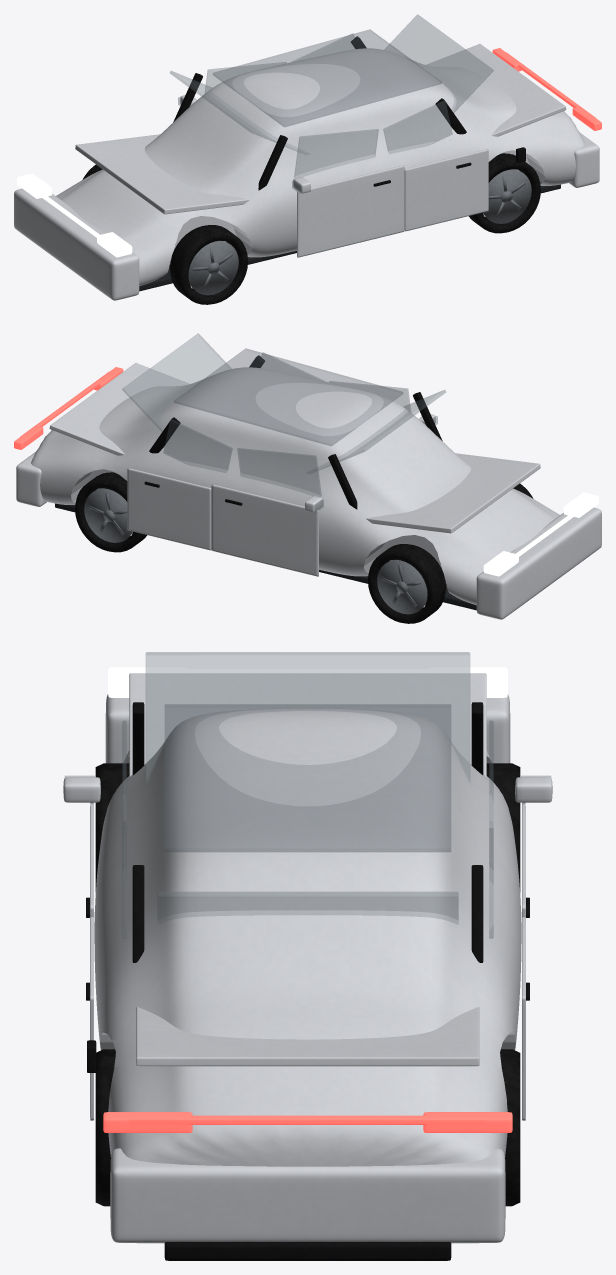
File: pack.agentspace.vehicle.car.tesla.sedan.01.glb
3 views of the same model, one above another, from view 1: azimuth 30°, elevation 25°; view 2: azimuth 150°, elevation 25°; view 3: azimuth 270°, elevation 25° (orthographic). The views are drawn at different scales.
Parts seen in each view (by area): view 1: pack.agentspace.vehicle.car.tesla.sedan.01.body, pack.agentspace.vehicle.car.tesla.sedan.01.roof, pack.agentspace.vehicle.car.tesla.sedan.01.door.front.left, pack.agentspace.vehicle.car.tesla.sedan.01.bumper.front, pack.agentspace.vehicle.car.tesla.sedan.01.door.rear.left, pack.agentspace.vehicle.car.tesla.sedan.01.hood, pack.agentspace.vehicle.car.tesla.sedan.01.glass.rear, pack.agentspace.vehicle.car.tesla.sedan.01.trunk, pack.agentspace.vehicle.car.tesla.sedan.01.glass.side.front. (×2), pack.agentspace.vehicle.car.tesla.sedan.01.tyre.front.left, pack.agentspace.vehicle.car.tesla.sedan.01.glass.side.rear.l, pack.agentspace.vehicle.car.tesla.sedan.01.rim.front.left (+12 smaller); view 2: pack.agentspace.vehicle.car.tesla.sedan.01.body, pack.agentspace.vehicle.car.tesla.sedan.01.roof, pack.agentspace.vehicle.car.tesla.sedan.01.door.front.right, pack.agentspace.vehicle.car.tesla.sedan.01.bumper.front, pack.agentspace.vehicle.car.tesla.sedan.01.door.rear.right, pack.agentspace.vehicle.car.tesla.sedan.01.hood, pack.agentspace.vehicle.car.tesla.sedan.01.glass.rear, pack.agentspace.vehicle.car.tesla.sedan.01.trunk, pack.agentspace.vehicle.car.tesla.sedan.01.glass.side.front. (×2), pack.agentspace.vehicle.car.tesla.sedan.01.tyre.front.right, pack.agentspace.vehicle.car.tesla.sedan.01.glass.side.rear.r, pack.agentspace.vehicle.car.tesla.sedan.01.rim.front.right (+12 smaller); view 3: pack.agentspace.vehicle.car.tesla.sedan.01.body, pack.agentspace.vehicle.car.tesla.sedan.01.roof, pack.agentspace.vehicle.car.tesla.sedan.01.bumper.rear, pack.agentspace.vehicle.car.tesla.sedan.01.windshield, pack.agentspace.vehicle.car.tesla.sedan.01.hood, pack.agentspace.vehicle.car.tesla.sedan.01.trunk, pack.agentspace.vehicle.car.tesla.sedan.01.glass.rear, pack.agentspace.vehicle.car.tesla.sedan.01.diffuser, pack.agentspace.vehicle.car.tesla.sedan.01.bumper.front, pack.agentspace.vehicle.car.tesla.sedan.01.taillight.bar, pack.agentspace.vehicle.car.tesla.sedan.01.tyre.rear.right, pack.agentspace.vehicle.car.tesla.sedan.01.tyre.rear.left (+14 smaller).
Boxes of the visible parts, bbox=[...] form: pack.agentspace.vehicle.car.tesla.sedan.01.body: bbox=[56, 48, 584, 285]; pack.agentspace.vehicle.car.tesla.sedan.01.roof: bbox=[213, 29, 441, 126]; pack.agentspace.vehicle.car.tesla.sedan.01.door.front.left: bbox=[297, 165, 404, 257]; pack.agentspace.vehicle.car.tesla.sedan.01.bumper.front: bbox=[14, 188, 139, 300]; pack.agentspace.vehicle.car.tesla.sedan.01.door.rear.left: bbox=[404, 149, 488, 231]; pack.agentspace.vehicle.car.tesla.sedan.01.hood: bbox=[75, 134, 249, 214]; pack.agentspace.vehicle.car.tesla.sedan.01.glass.rear: bbox=[384, 14, 493, 112]; pack.agentspace.vehicle.car.tesla.sedan.01.trunk: bbox=[426, 44, 566, 136]; pack.agentspace.vehicle.car.tesla.sedan.01.glass.side.front. (×2): bbox=[205, 62, 378, 177]; pack.agentspace.vehicle.car.tesla.sedan.01.tyre.front.left: bbox=[170, 225, 247, 304]; pack.agentspace.vehicle.car.tesla.sedan.01.glass.side.rear.l: bbox=[383, 100, 452, 153]; pack.agentspace.vehicle.car.tesla.sedan.01.rim.front.left: bbox=[188, 240, 238, 295]; pack.agentspace.vehicle.car.tesla.sedan.01.body: bbox=[31, 367, 559, 604]; pack.agentspace.vehicle.car.tesla.sedan.01.roof: bbox=[174, 348, 402, 445]; pack.agentspace.vehicle.car.tesla.sedan.01.door.front.right: bbox=[211, 484, 318, 576]; pack.agentspace.vehicle.car.tesla.sedan.01.bumper.front: bbox=[476, 507, 601, 619]; pack.agentspace.vehicle.car.tesla.sedan.01.door.rear.right: bbox=[127, 468, 211, 550]; pack.agentspace.vehicle.car.tesla.sedan.01.hood: bbox=[366, 453, 540, 533]; pack.agentspace.vehicle.car.tesla.sedan.01.glass.rear: bbox=[122, 333, 231, 431]; pack.agentspace.vehicle.car.tesla.sedan.01.trunk: bbox=[49, 363, 189, 455]; pack.agentspace.vehicle.car.tesla.sedan.01.glass.side.front. (×2): bbox=[237, 381, 410, 496]; pack.agentspace.vehicle.car.tesla.sedan.01.tyre.front.right: bbox=[368, 544, 445, 623]; pack.agentspace.vehicle.car.tesla.sedan.01.glass.side.rear.r: bbox=[163, 419, 232, 472]; pack.agentspace.vehicle.car.tesla.sedan.01.rim.front.right: bbox=[377, 559, 427, 614]; pack.agentspace.vehicle.car.tesla.sedan.01.body: bbox=[94, 708, 521, 1166]; pack.agentspace.vehicle.car.tesla.sedan.01.roof: bbox=[165, 704, 450, 851]; pack.agentspace.vehicle.car.tesla.sedan.01.bumper.rear: bbox=[110, 1148, 505, 1243]; pack.agentspace.vehicle.car.tesla.sedan.01.windshield: bbox=[146, 652, 469, 783]; pack.agentspace.vehicle.car.tesla.sedan.01.hood: bbox=[129, 673, 486, 776]; pack.agentspace.vehicle.car.tesla.sedan.01.trunk: bbox=[136, 1007, 479, 1066]; pack.agentspace.vehicle.car.tesla.sedan.01.glass.rear: bbox=[157, 892, 458, 923]; pack.agentspace.vehicle.car.tesla.sedan.01.diffuser: bbox=[164, 1242, 451, 1260]; pack.agentspace.vehicle.car.tesla.sedan.01.bumper.front: bbox=[105, 694, 510, 763]; pack.agentspace.vehicle.car.tesla.sedan.01.taillight.bar: bbox=[129, 1115, 486, 1124]; pack.agentspace.vehicle.car.tesla.sedan.01.tyre.rear.right: bbox=[500, 1049, 520, 1206]; pack.agentspace.vehicle.car.tesla.sedan.01.tyre.rear.left: bbox=[95, 1049, 115, 1206].
Bounding box in the file's own units: 4.83 × 1.45 × 2.08.
9 materials, 5 textured.
